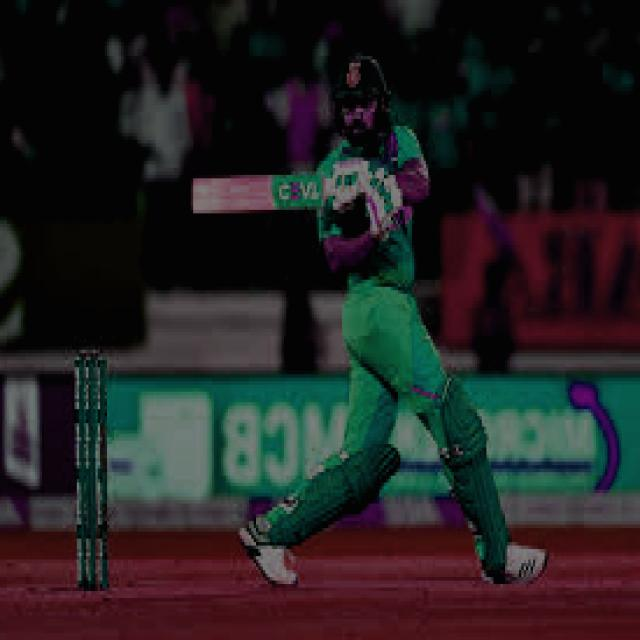toe: (186, 174, 212, 222)
